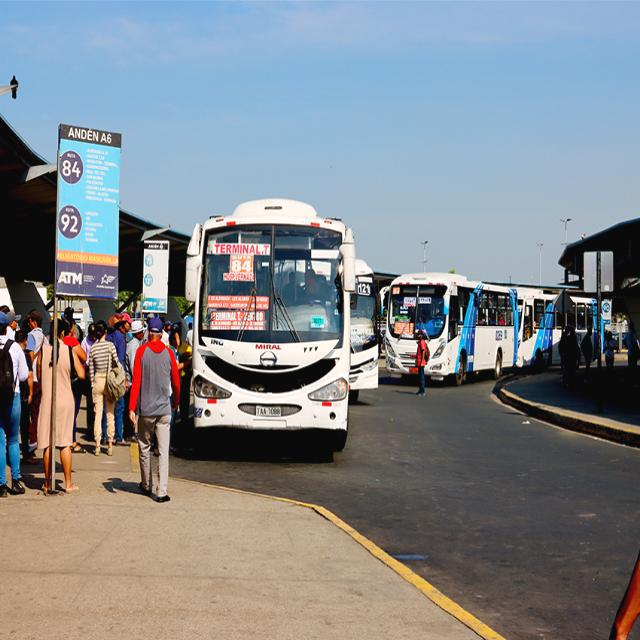BUS: (189, 205, 350, 447), (383, 272, 518, 383)
